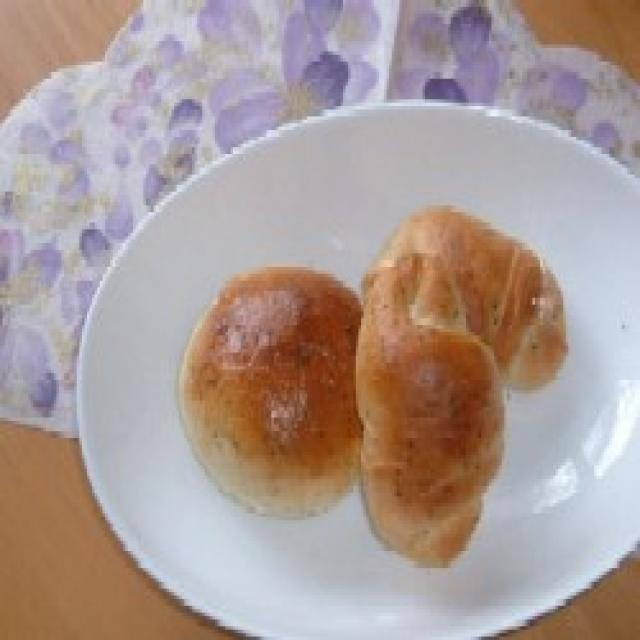面包点心: (174, 185, 576, 565)
